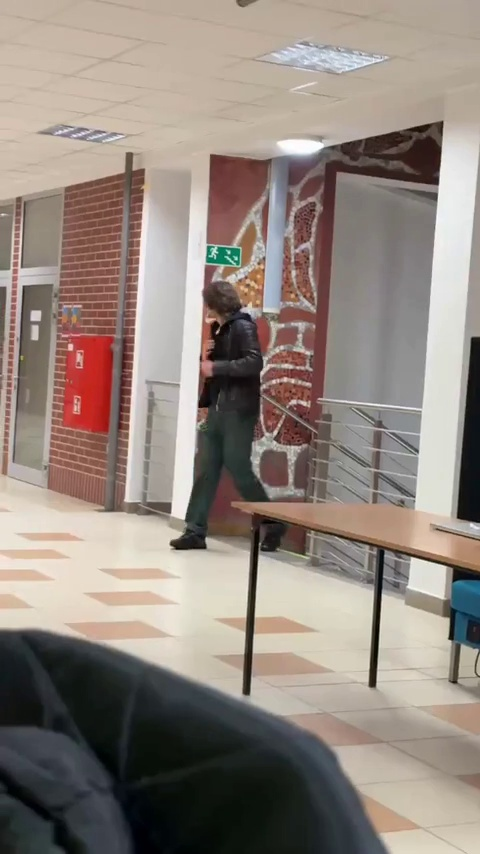no vest: (173, 284, 290, 554)
